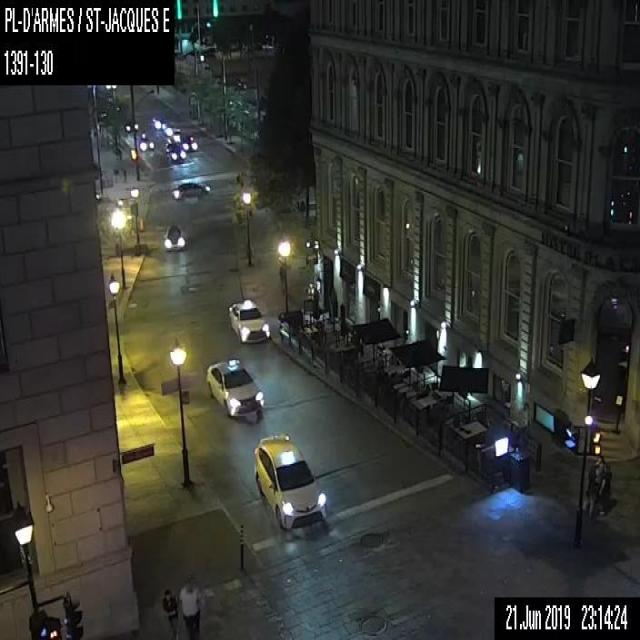pedestrian: (176, 578, 203, 638), (582, 460, 603, 516), (162, 585, 177, 639), (598, 460, 612, 515)
vehicle: (252, 432, 327, 527), (206, 357, 264, 421), (227, 297, 271, 344), (171, 178, 210, 202), (163, 221, 185, 254), (163, 143, 186, 161), (137, 132, 154, 153), (180, 134, 198, 152), (124, 116, 138, 134)
